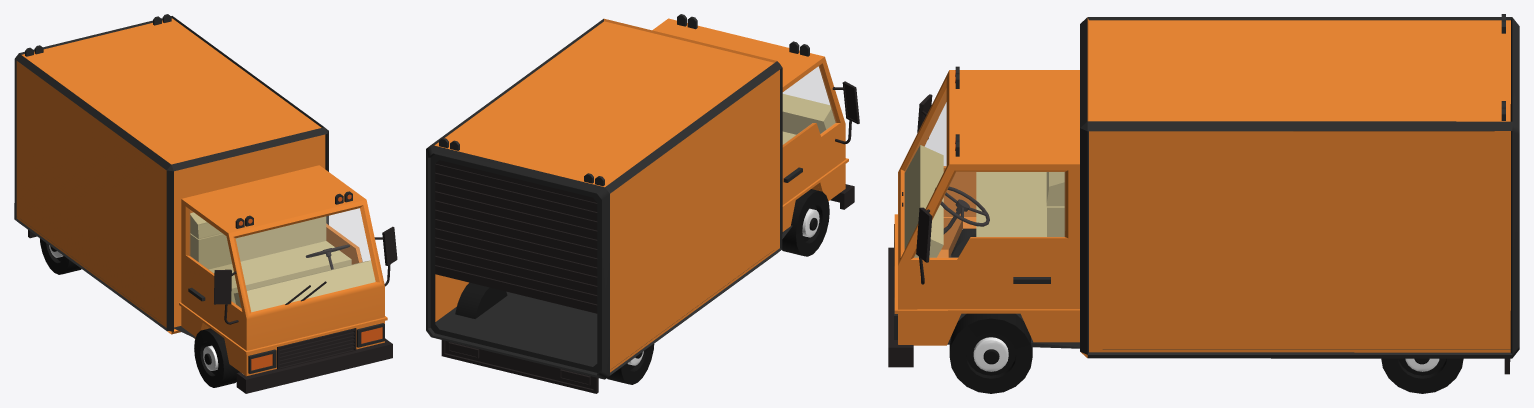
Rendered from sizeM.gltf.
3 renders of one model, left to right at view 1: azimuth 30°, elevation 25°; view 2: azimuth 150°, elevation 25°; view 3: azimuth 270°, elevation 25°, orthographic. The views are drawn at different scales.
Parts seen in each view (by area): view 1: polySurface14; view 2: polySurface14; view 3: polySurface14.
Boxes of the visible parts, x1,y1,x2,y2 form: polySurface14: (14,14,397,393); polySurface14: (426,14,859,393); polySurface14: (888,14,1519,393).
Size of the model in its own units: 2.54 by 2.67 by 5.43.
